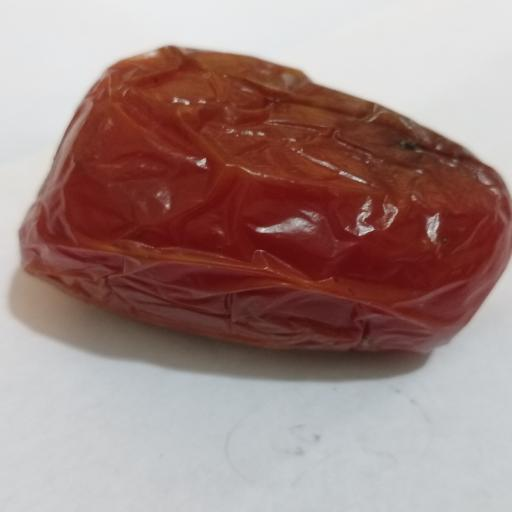spoiled: (21, 47, 512, 351)
